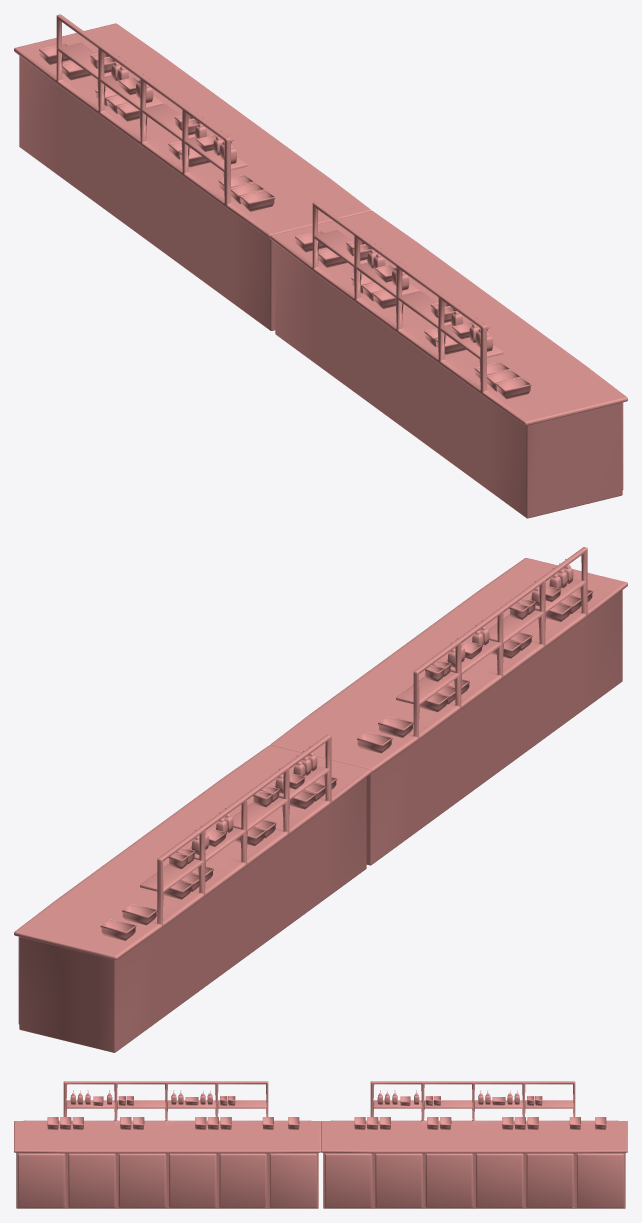
The model's file is 2 Tezgah.fbx.
3 renders of one model, top to bottom at view 1: azimuth 30°, elevation 25°; view 2: azimuth 150°, elevation 25°; view 3: azimuth 270°, elevation 25°, orthographic. The views are drawn at different scales.
Visible parts, largest first — view 1: Plane.002; view 2: Plane.002; view 3: Plane.002.
Boxes of the visible parts, x1=… form: Plane.002: x1=14, y1=14, x2=627, y2=518; Plane.002: x1=14, y1=547, x2=627, y2=1052; Plane.002: x1=14, y1=1081, x2=627, y2=1208.
Bounding box in the file's own units: 266 × 396 × 2237.
